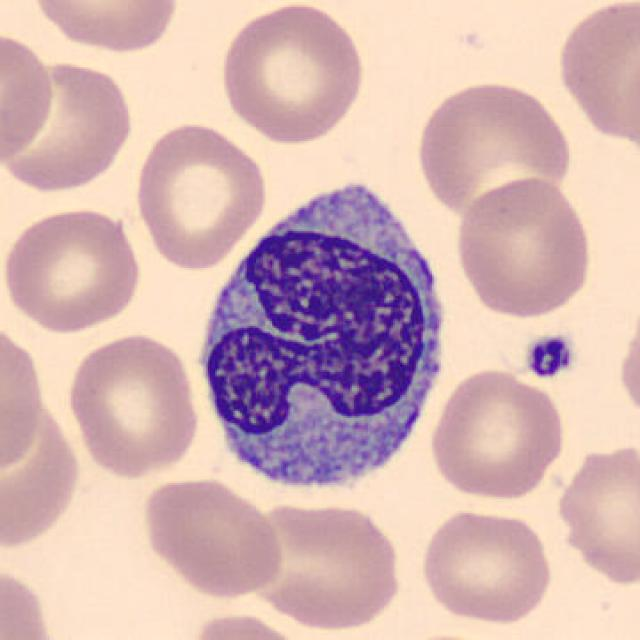Monocyte: (186, 162, 458, 504)
Platelets: (522, 332, 578, 382)
RBC: (411, 76, 576, 222), (215, 0, 369, 146), (130, 116, 270, 272), (245, 499, 406, 633), (62, 330, 203, 480), (452, 173, 596, 319), (427, 365, 569, 502), (0, 203, 146, 335), (139, 474, 286, 600), (5, 56, 137, 196), (416, 506, 556, 626), (551, 436, 640, 590), (553, 0, 638, 152), (0, 405, 78, 557), (23, 0, 183, 55), (0, 27, 59, 170), (0, 314, 48, 483), (0, 559, 62, 640), (183, 610, 311, 640), (615, 294, 640, 432), (391, 629, 505, 640)
